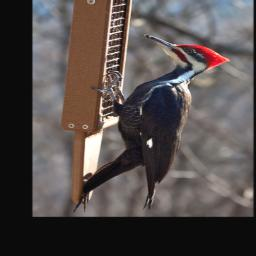Woodpecker: (73, 33, 232, 213)
